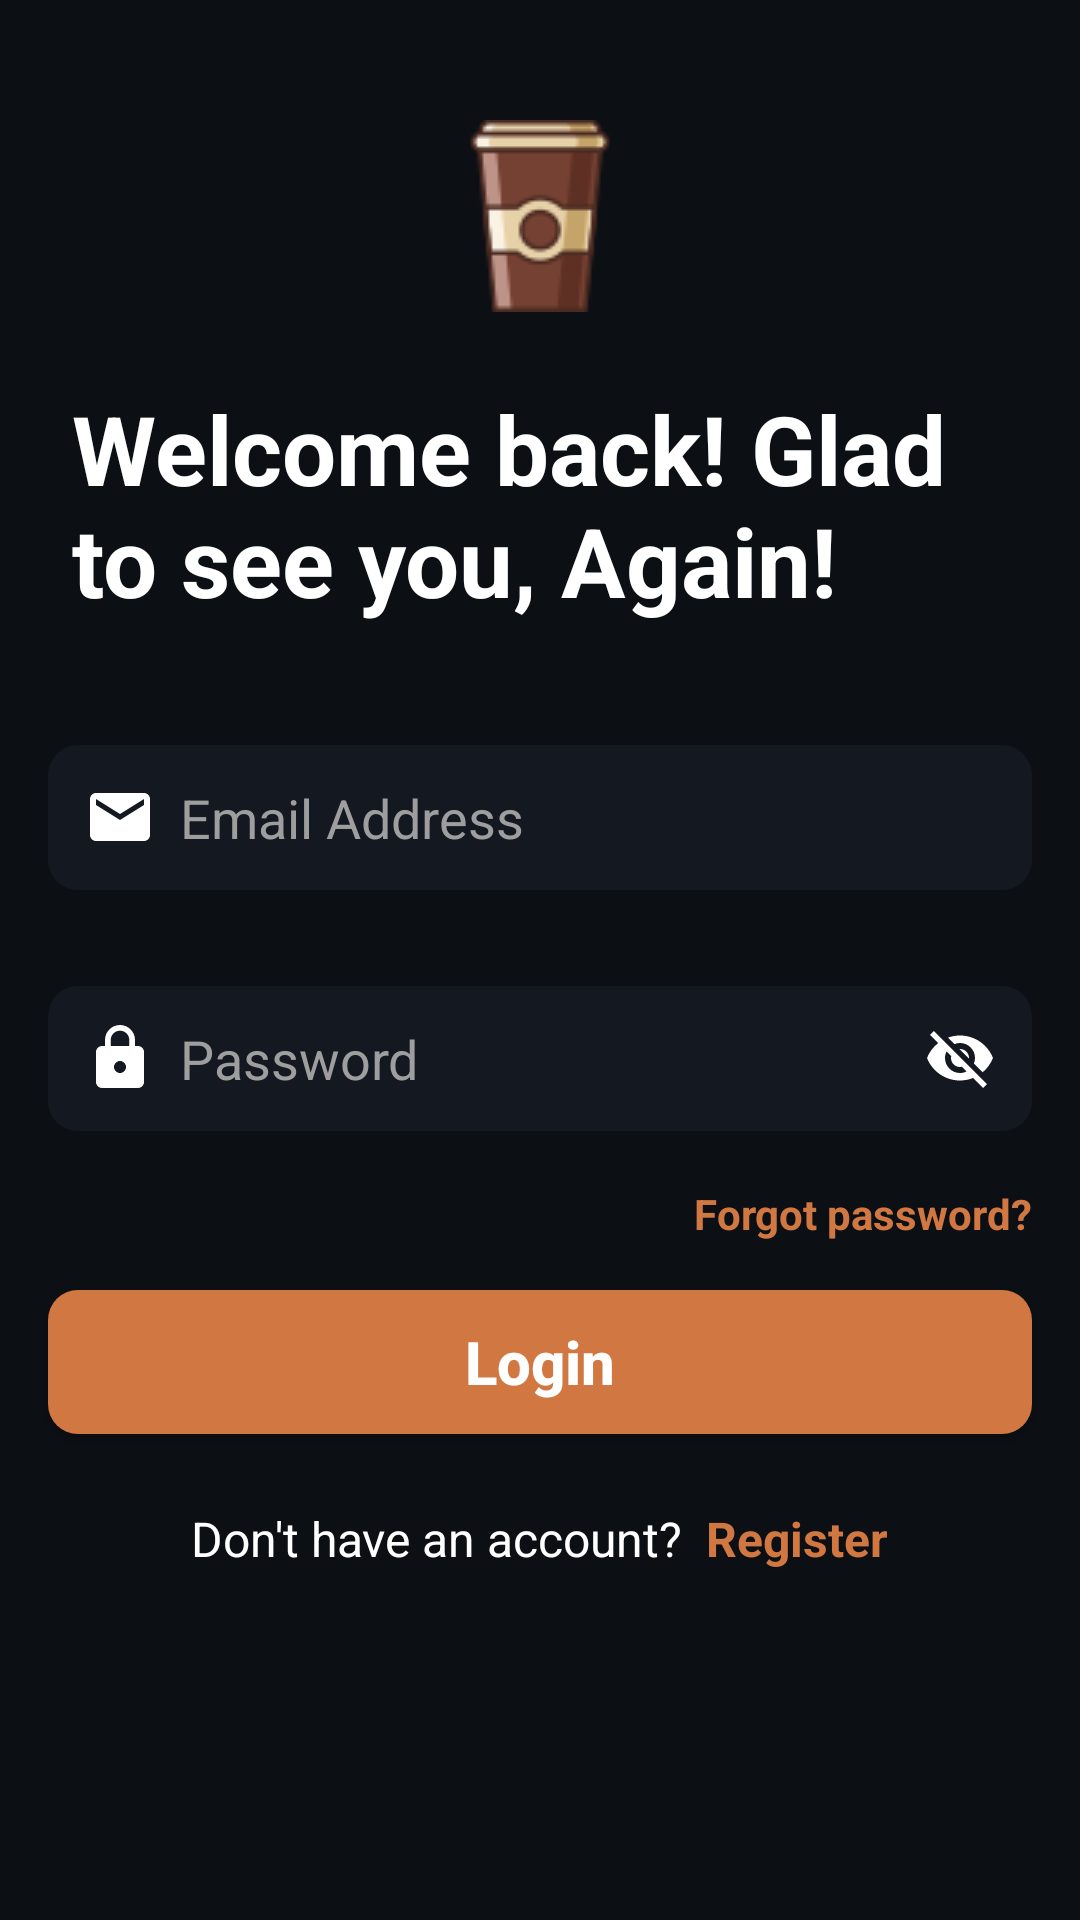

Point at icon controls on the screen. Image size 1080×1920, points as [x,y].
coffee: [540,216]
